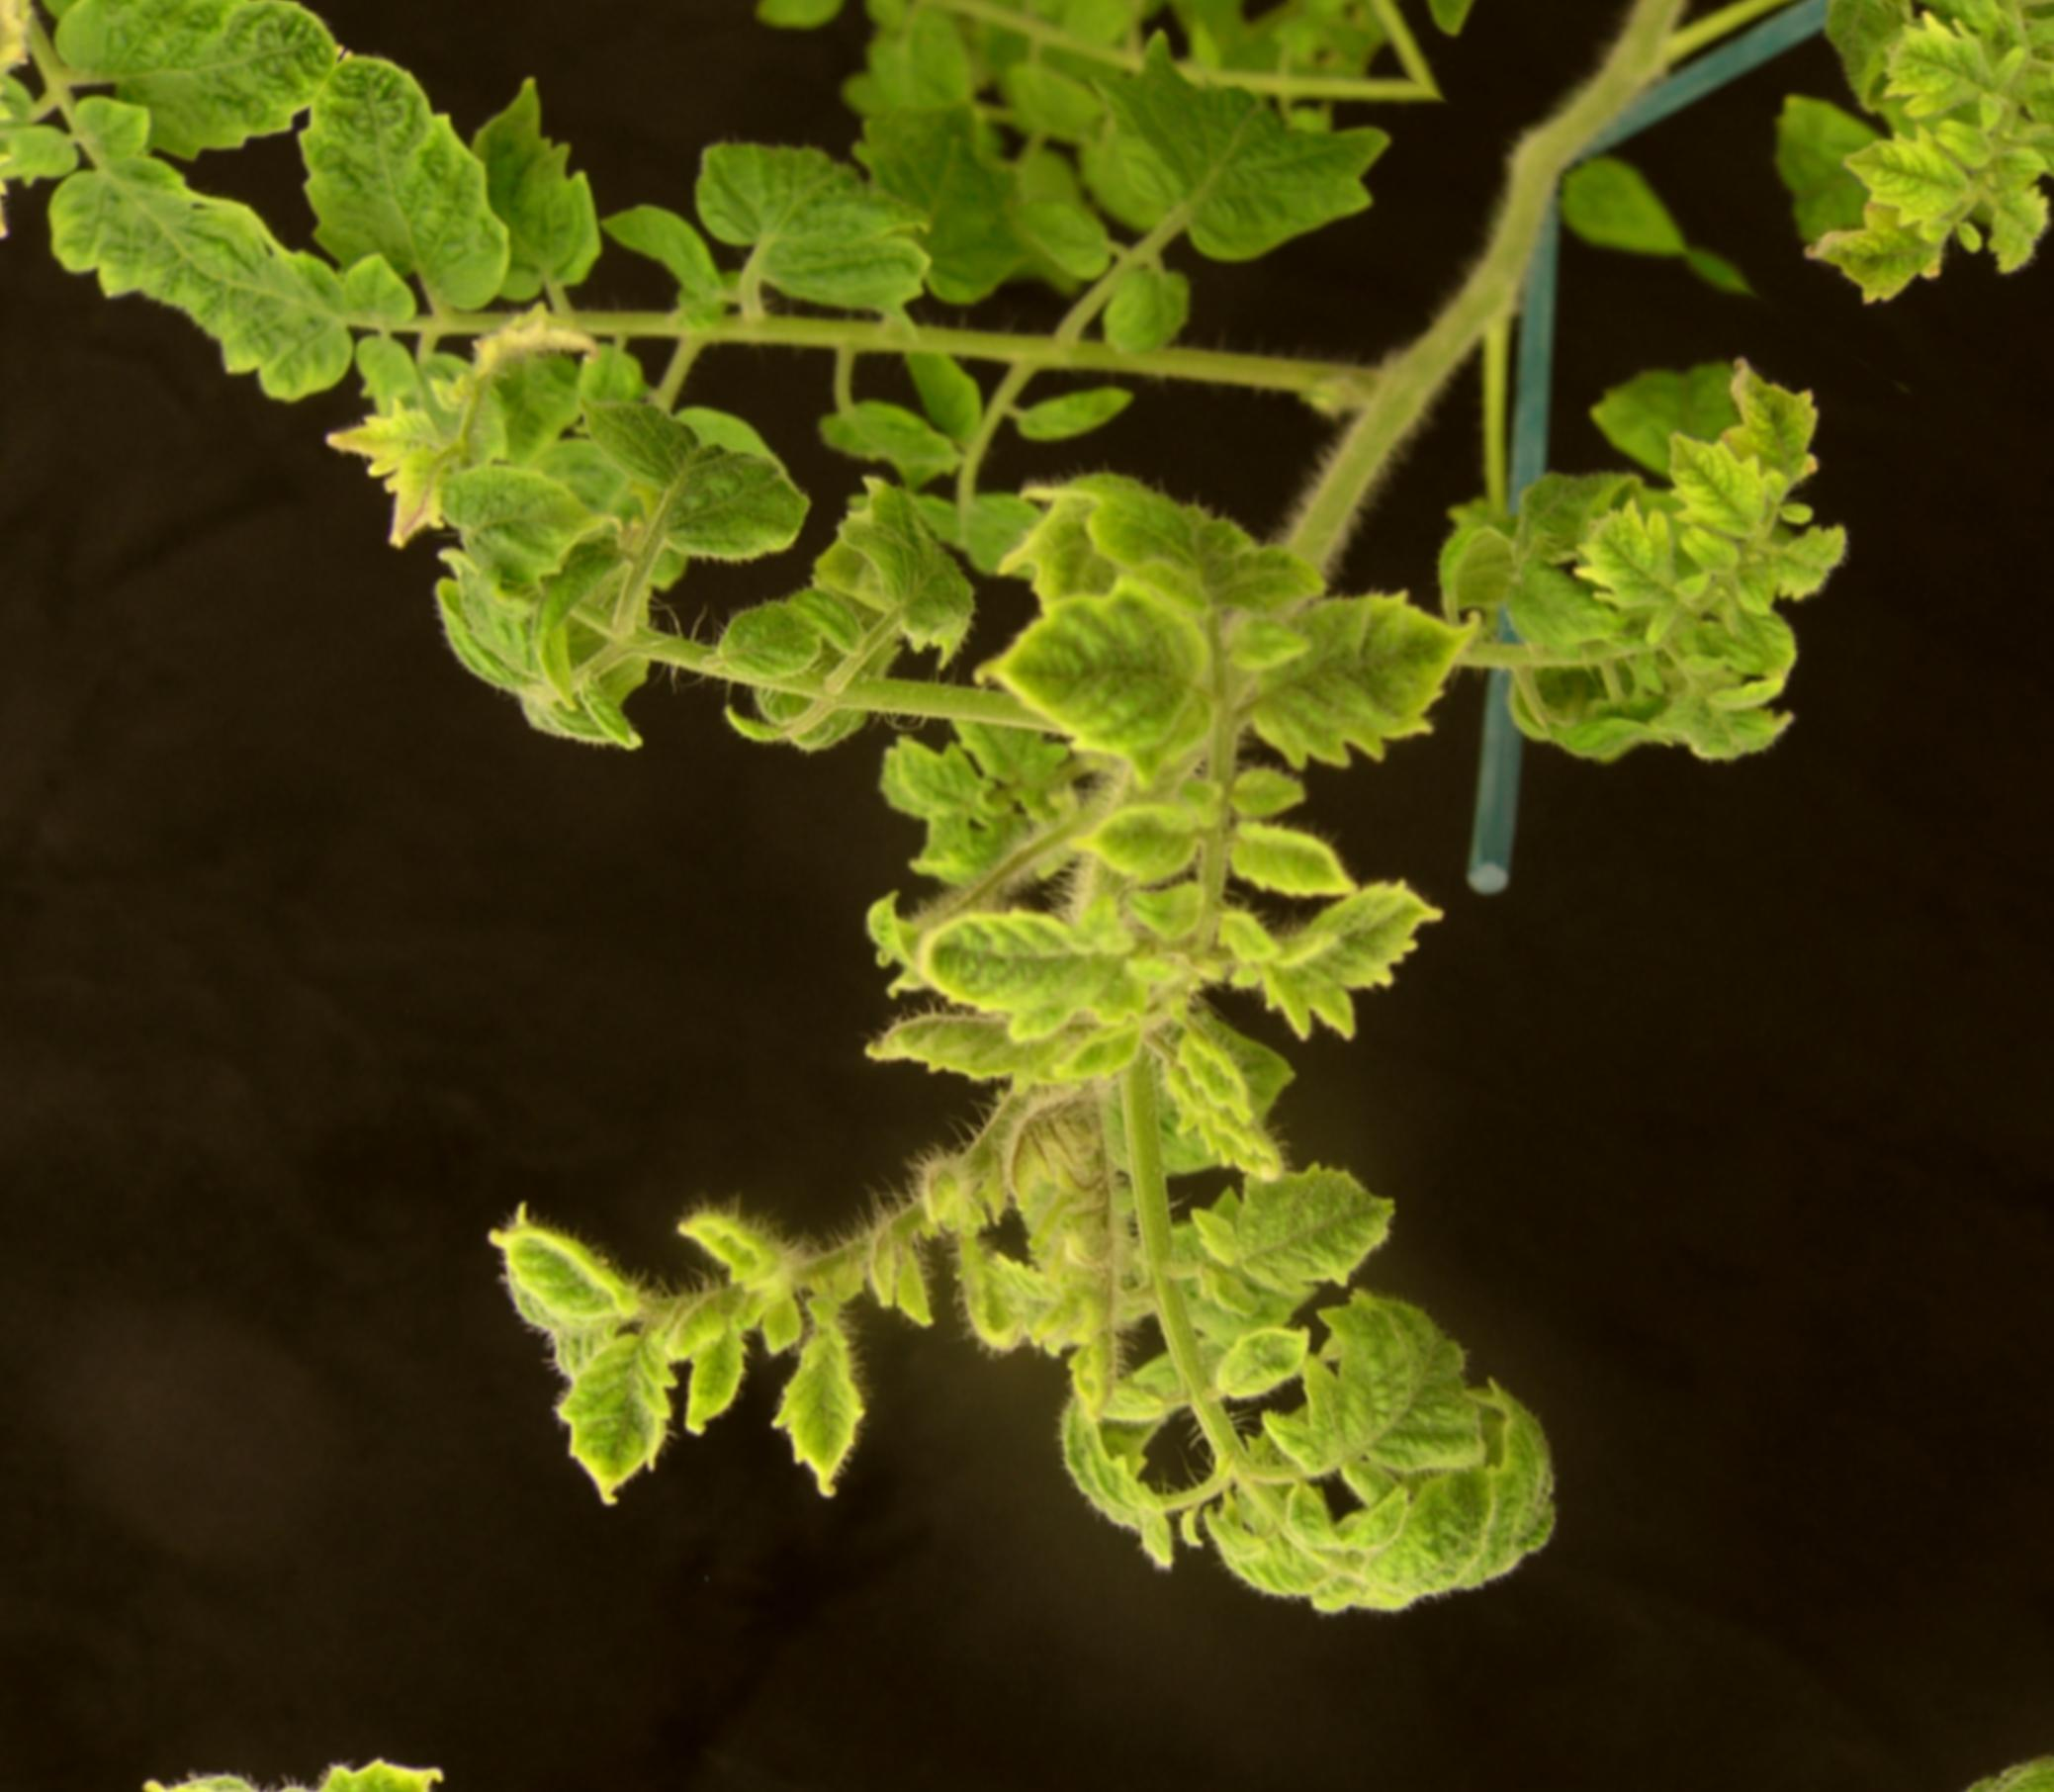Tomato leaf yellow virus: (927, 489, 1275, 828), (248, 40, 592, 356), (1233, 526, 1513, 826), (155, 168, 433, 454), (1177, 1109, 1437, 1366), (894, 852, 1155, 1092), (1238, 1272, 1469, 1525), (501, 1308, 730, 1563), (1231, 831, 1465, 1071), (1665, 321, 1867, 529), (442, 1179, 651, 1366), (1542, 496, 1731, 671), (1179, 1485, 1350, 1644), (1623, 417, 1790, 562)
